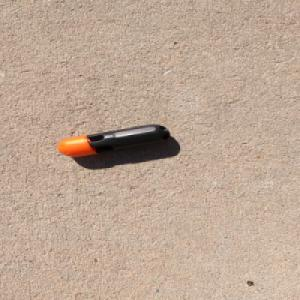PlasticPart: (55, 123, 172, 158)
